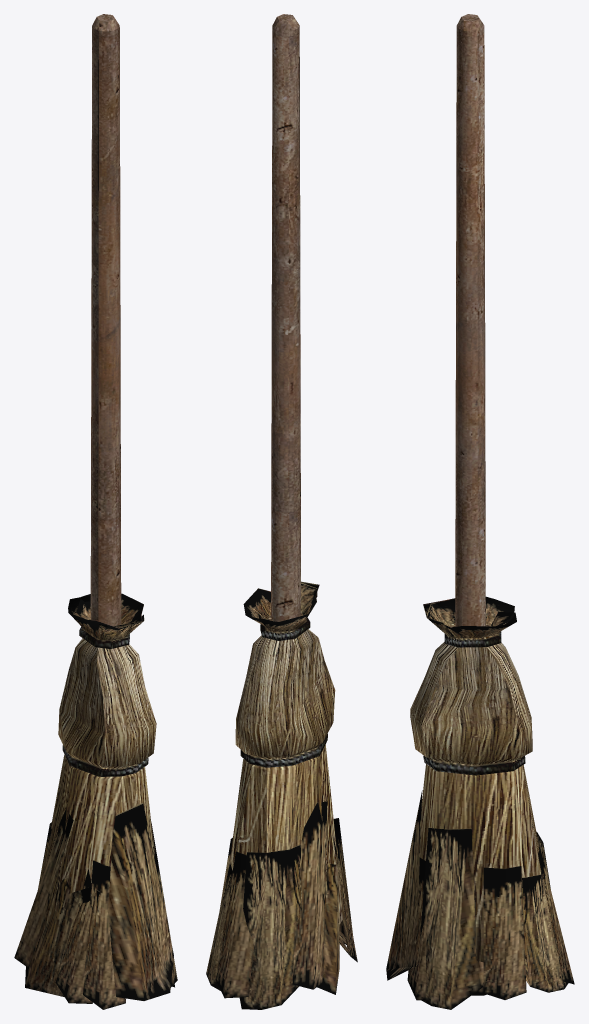
The model's file is Broom.obj.
3 renders of one model, left to right at view 1: azimuth 30°, elevation 25°; view 2: azimuth 150°, elevation 25°; view 3: azimuth 270°, elevation 25°, orthographic.
Parts seen in each view (by area): view 1: Mesh_0097; view 2: Mesh_0097; view 3: Mesh_0097.
Part boxes in pixels (left/top/right/bottom): Mesh_0097: left=14, top=14, right=177, bottom=1009; Mesh_0097: left=206, top=14, right=357, bottom=1009; Mesh_0097: left=386, top=14, right=574, bottom=1009.
Bounding box in the file's own units: 0.1576 × 1.19 × 0.2092.
Materials: 1 (1 with a texture image).
